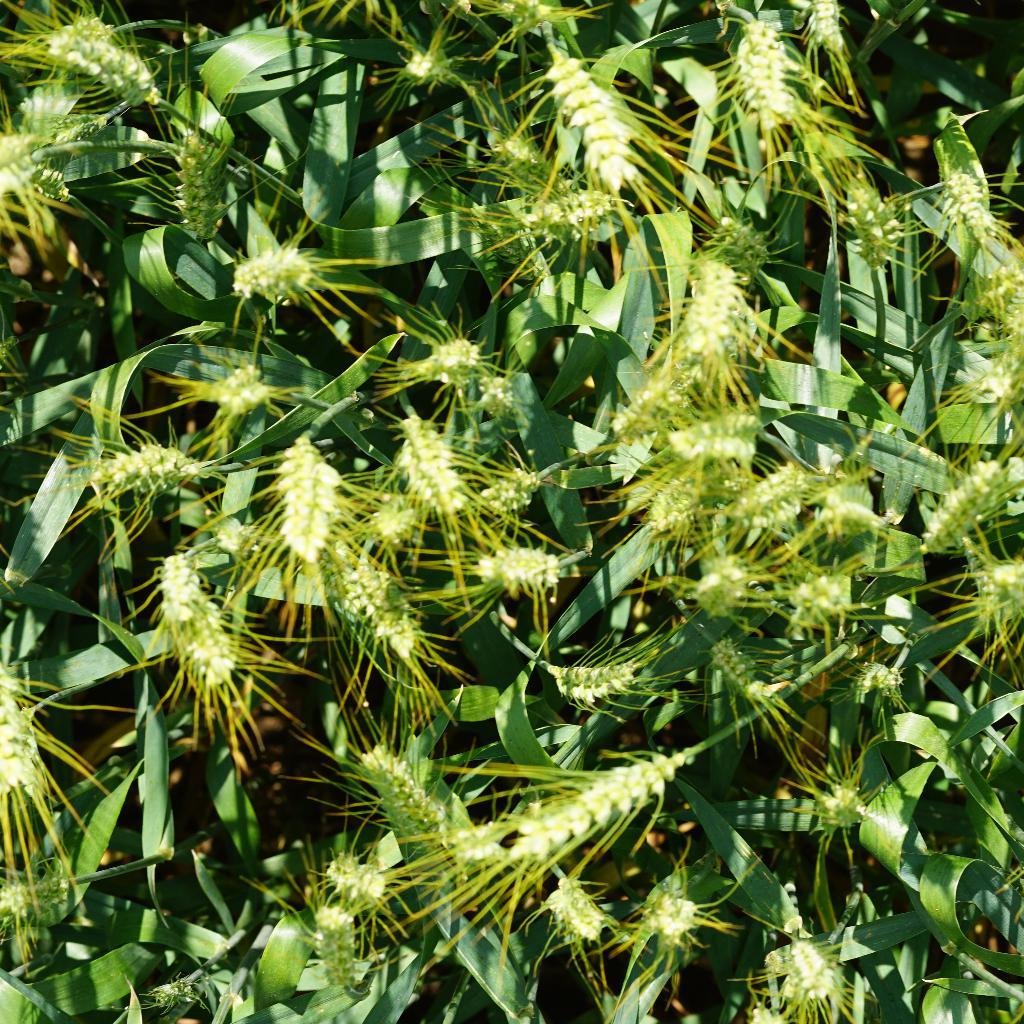0-0: (458, 722, 709, 858), (537, 43, 638, 189), (27, 0, 156, 104), (262, 423, 344, 560), (156, 120, 240, 249), (340, 739, 453, 833), (925, 135, 1012, 254), (156, 604, 253, 707), (340, 544, 426, 656), (911, 451, 1012, 545), (683, 246, 758, 370), (0, 670, 55, 832), (724, 12, 799, 127), (833, 164, 909, 277), (393, 403, 470, 514), (81, 432, 212, 497), (190, 346, 299, 422), (460, 534, 590, 593), (610, 455, 710, 529), (653, 397, 774, 456), (466, 120, 563, 190), (705, 630, 787, 712), (0, 131, 79, 216), (725, 459, 818, 531), (518, 190, 626, 250), (144, 541, 216, 627), (227, 240, 318, 307), (767, 931, 856, 999), (542, 656, 660, 705), (307, 901, 372, 987), (347, 482, 434, 546), (686, 200, 763, 271), (810, 463, 888, 533), (795, 762, 875, 830), (134, 952, 223, 1012), (0, 858, 79, 925), (542, 864, 608, 944), (396, 322, 484, 381), (780, 559, 863, 621), (692, 546, 758, 619), (452, 367, 526, 428), (388, 36, 463, 94), (986, 279, 1024, 391), (307, 856, 397, 901), (849, 653, 918, 710), (802, 0, 858, 66), (642, 892, 704, 950), (974, 550, 1024, 617), (478, 462, 542, 507), (492, 0, 563, 40)
